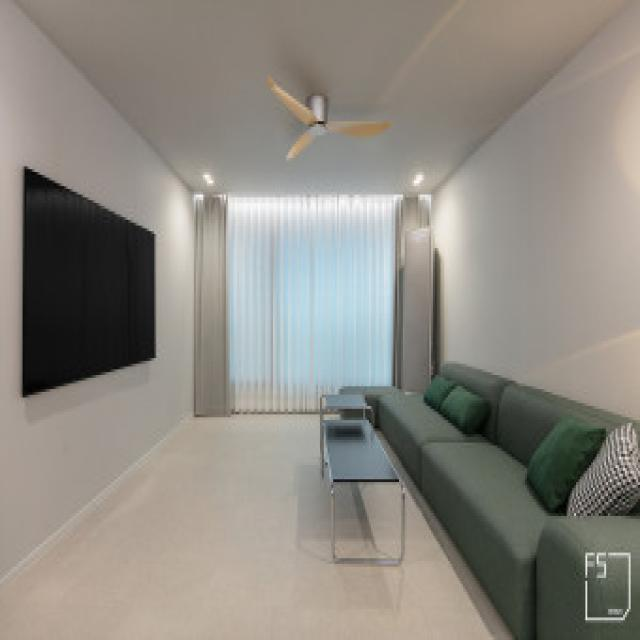Sofa: (410, 347, 638, 640)
Table: (319, 393, 406, 568)
tv: (24, 164, 157, 397)
window: (194, 197, 431, 400)
